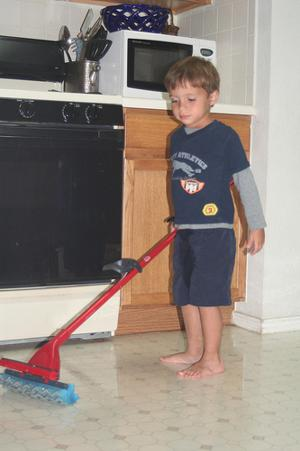person: (159, 57, 266, 379)
